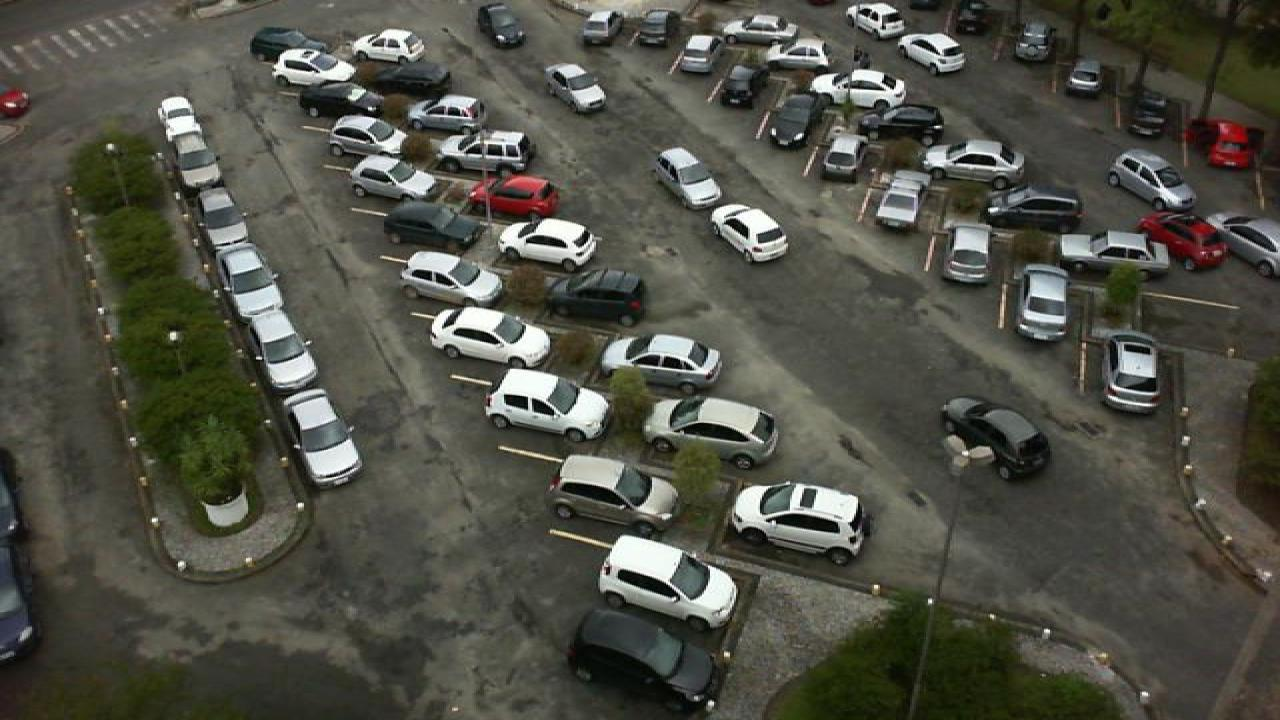Car: (566, 606, 724, 712), (594, 534, 740, 632), (728, 479, 874, 566), (546, 454, 688, 540), (640, 395, 780, 470), (936, 396, 1052, 482), (482, 370, 612, 442), (426, 304, 556, 370), (280, 389, 364, 490), (598, 332, 728, 397), (546, 266, 648, 328), (1106, 148, 1200, 214), (398, 250, 500, 308), (496, 218, 600, 272), (1138, 212, 1230, 273), (252, 308, 320, 390), (1058, 228, 1174, 276), (1100, 332, 1166, 415), (220, 244, 288, 320), (918, 138, 1026, 185), (984, 182, 1084, 232), (710, 202, 790, 264), (1210, 210, 1280, 280), (380, 202, 486, 248), (1012, 266, 1074, 342), (806, 68, 910, 112), (654, 145, 724, 208), (470, 173, 558, 223), (348, 153, 438, 201), (438, 130, 532, 174), (324, 115, 408, 161), (268, 46, 360, 88), (858, 101, 948, 143), (1188, 116, 1254, 172), (200, 184, 256, 248), (940, 222, 996, 286), (408, 93, 490, 136), (762, 91, 822, 149), (356, 60, 452, 96), (544, 63, 610, 115), (180, 132, 234, 194), (896, 31, 970, 76), (872, 170, 924, 233), (298, 82, 382, 119), (716, 14, 800, 48), (1124, 87, 1178, 137), (352, 28, 426, 64), (844, 1, 908, 41), (246, 26, 314, 63), (156, 96, 210, 142), (762, 36, 832, 70), (818, 134, 866, 183), (476, 3, 526, 50), (722, 64, 772, 109), (672, 32, 722, 76), (1010, 19, 1056, 63), (576, 9, 622, 51), (1062, 56, 1108, 98), (636, 8, 678, 48), (950, 0, 990, 37)
